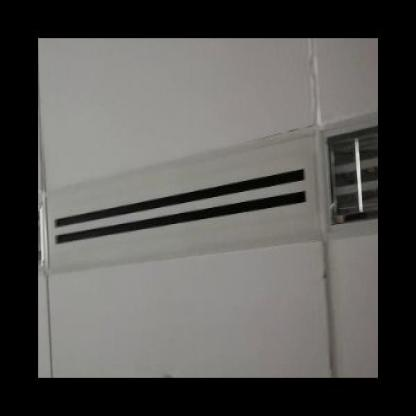light_off: (312, 95, 378, 252)
